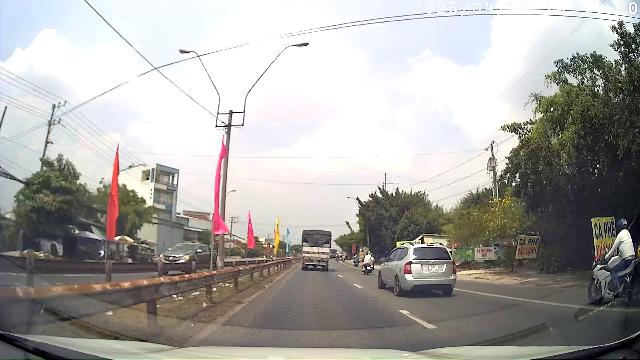133-het-cam-vuot: (363, 246, 369, 252)
